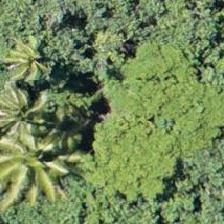coconut_tree: (0, 17, 84, 107), (0, 61, 73, 151), (0, 98, 67, 188)
